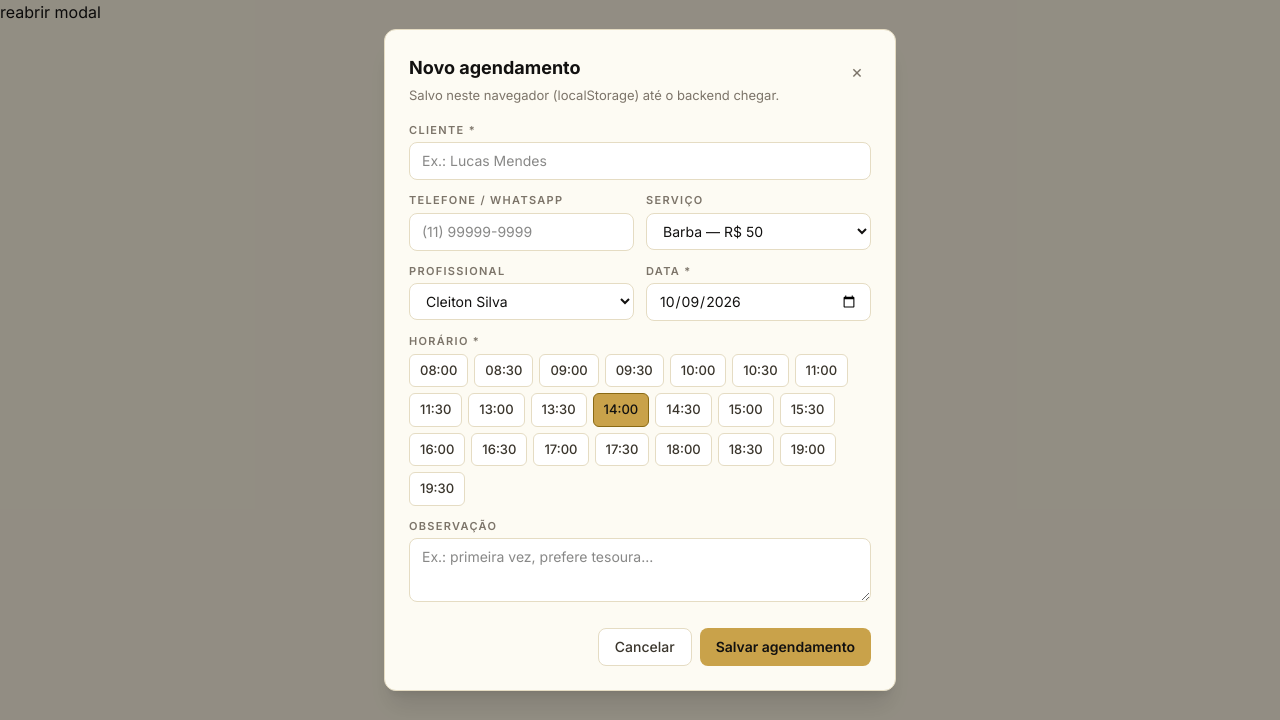
it: NovoAgendamentoModal — conflito de horários › recusa data no passado (criação só de hoje em diante)
Type "Ana Souza" into the field labelled "Cliente *". click: (640, 161)
box: top-left (409, 142), bottom-right (871, 180)
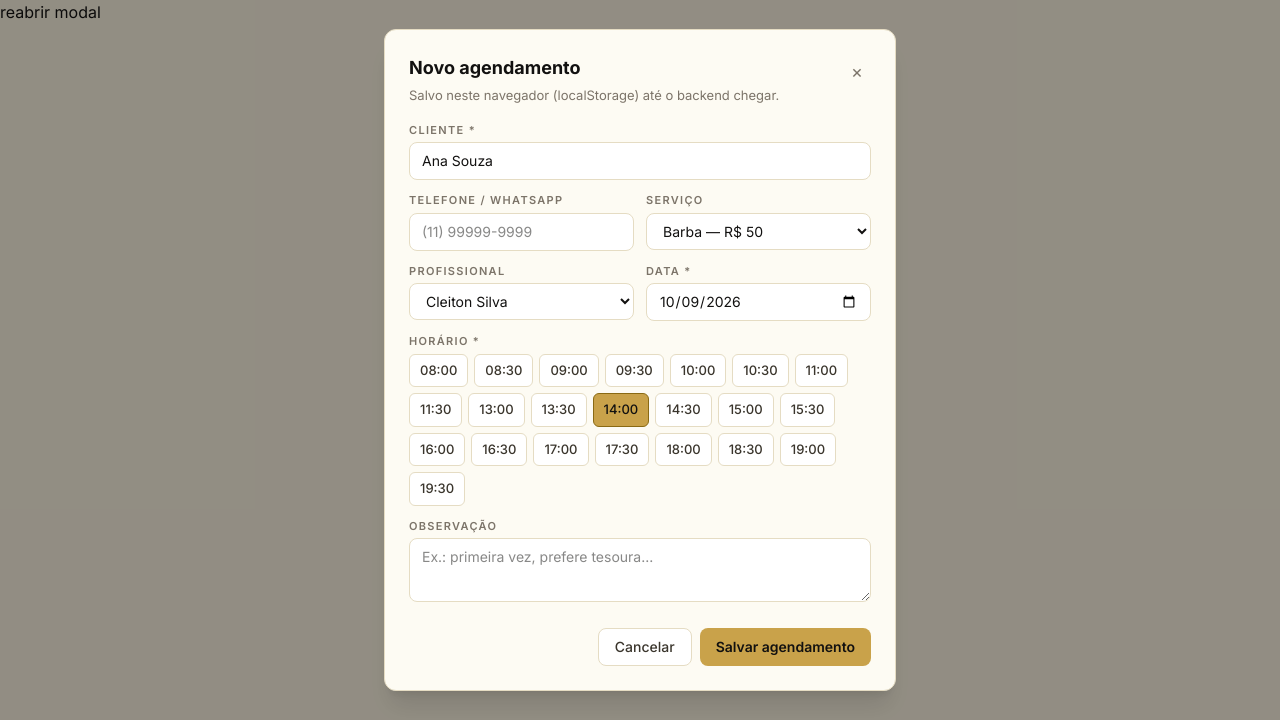
Type "2020-01-01" into the date field labelled "Data *". click: (758, 302)
box: top-left (646, 283), bottom-right (871, 321)
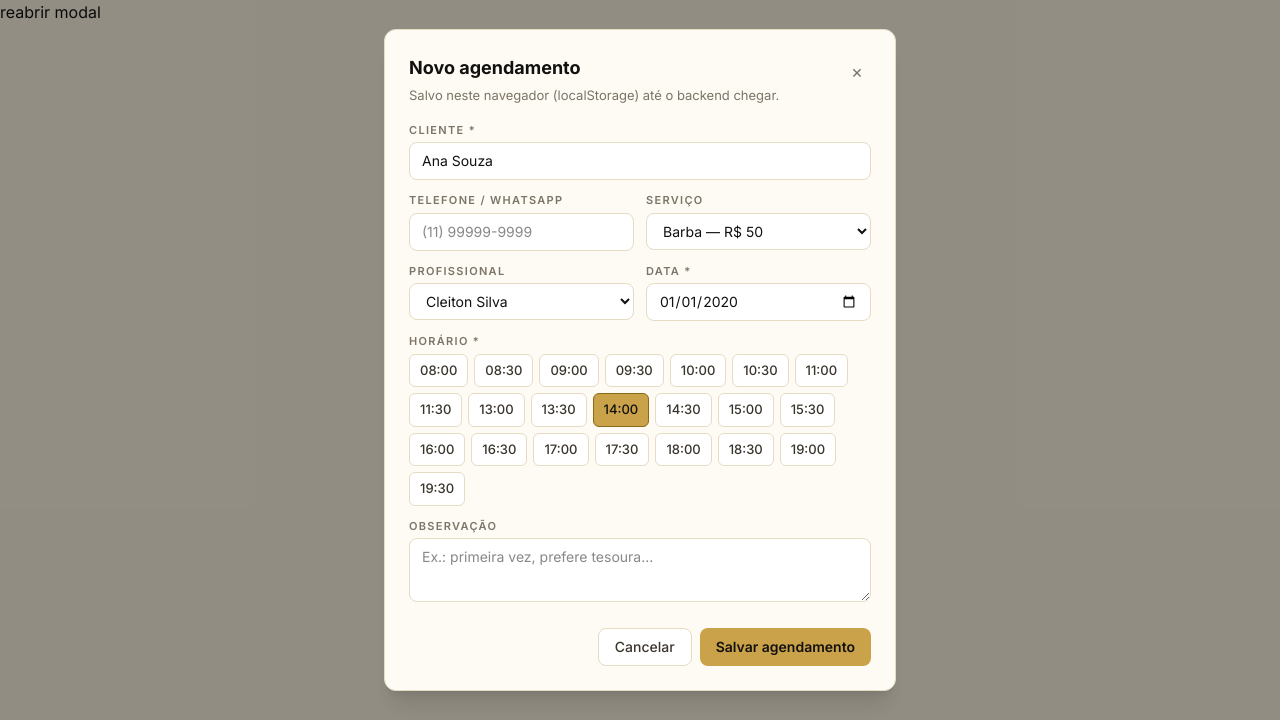
Click the button "Salvar agendamento". click: (785, 647)
box: top-left (700, 628), bottom-right (871, 666)
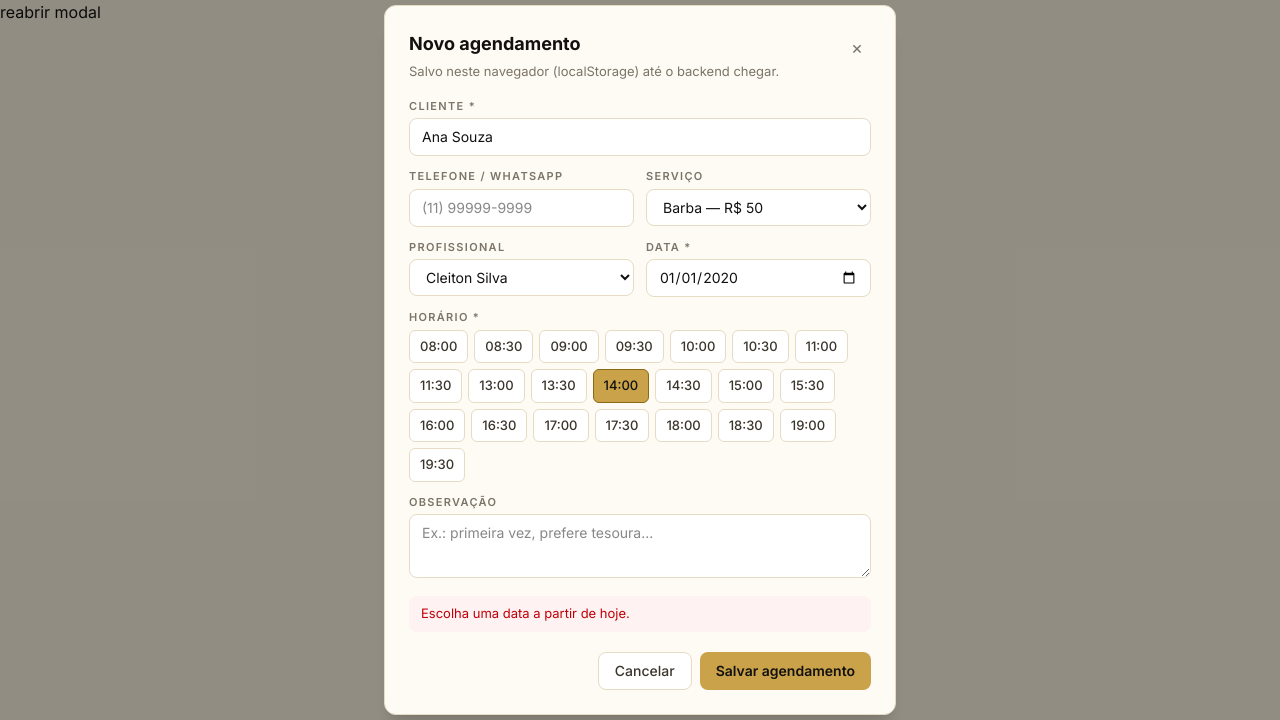
Result: the text "Escolha uma data a partir de hoje." is shown at top-left (409, 596), bottom-right (871, 632)
